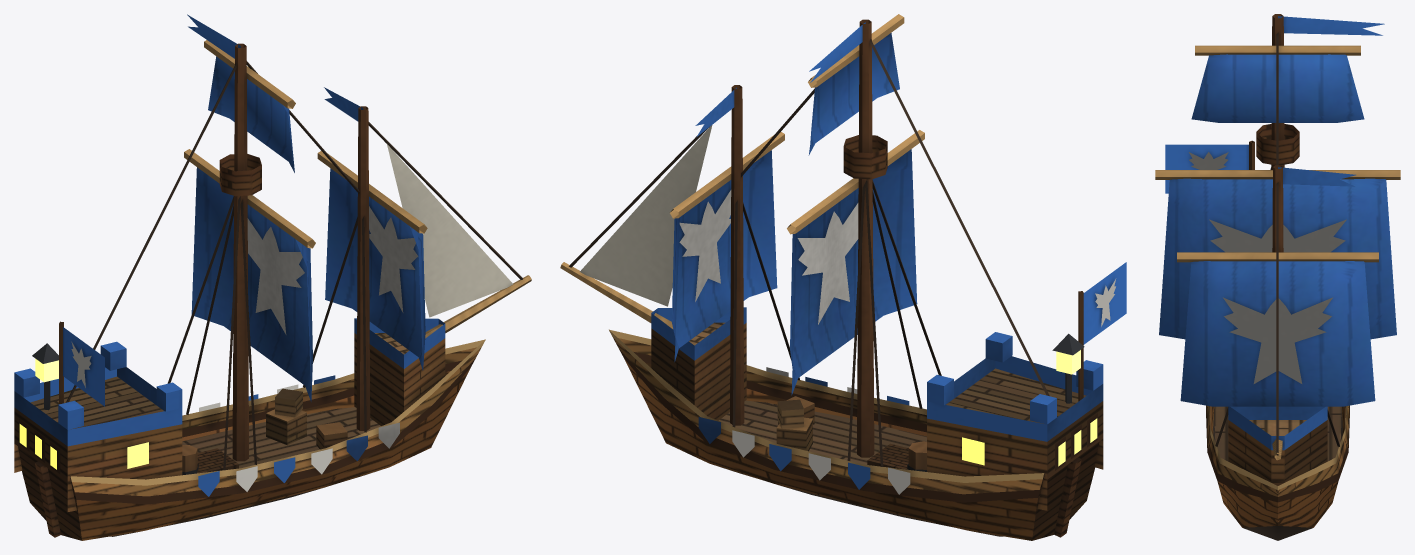
The model's file is warship_blue.glb.
The picture shows the model from 3 angles, left to right: view 1: azimuth 30°, elevation 25°; view 2: azimuth 150°, elevation 25°; view 3: azimuth 270°, elevation 25°; orthographic projection. The views are drawn at different scales.
Parts seen in each view (by area): view 1: warship_blue; view 2: warship_blue; view 3: warship_blue.
Boxes of the visible parts, <box> form: warship_blue: <box>14,14,531,540</box>; warship_blue: <box>560,14,1126,540</box>; warship_blue: <box>1155,14,1400,540</box>.
Bounding box in the file's own units: 0.785 × 0.705 × 0.34.
Materials: 3 (1 with a texture image).
